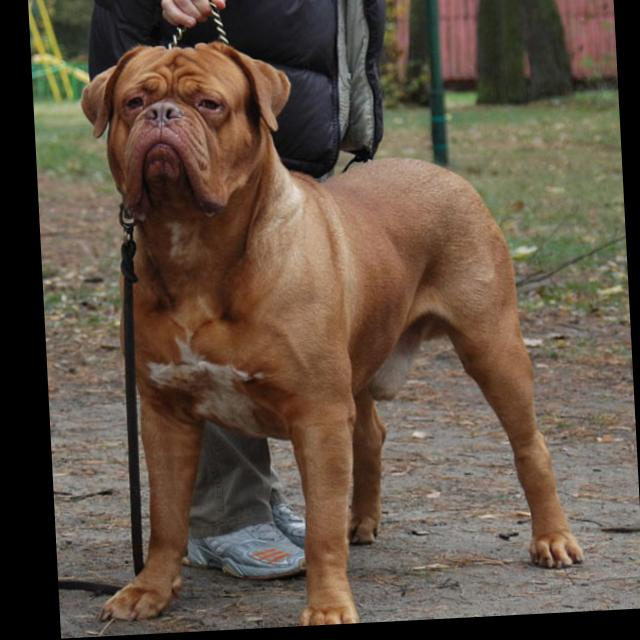dogue_de_bordeaux: (64, 27, 584, 638)
person: (86, 1, 409, 593)
